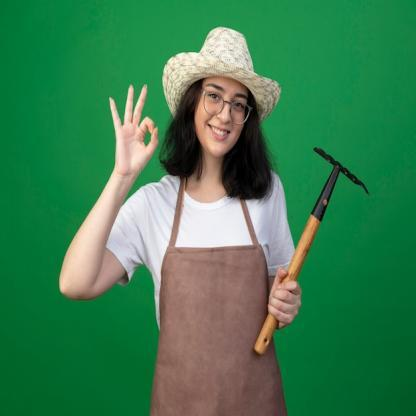ok: (107, 83, 160, 180)
